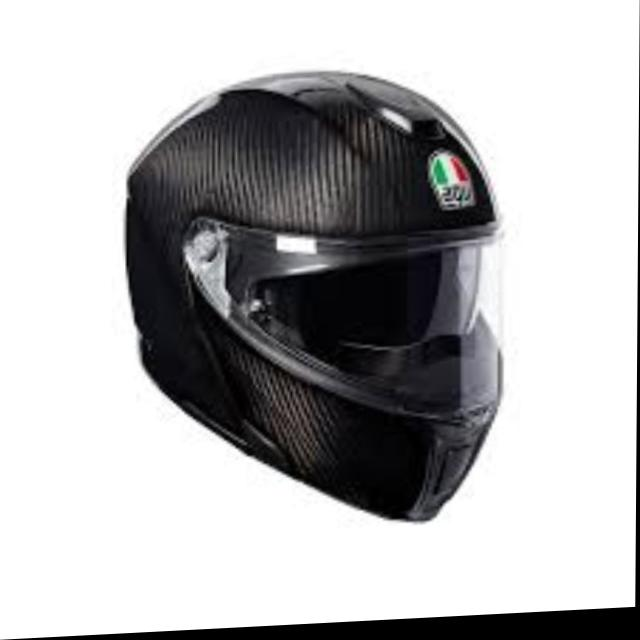motorcycle-helmets: (102, 42, 527, 564)
